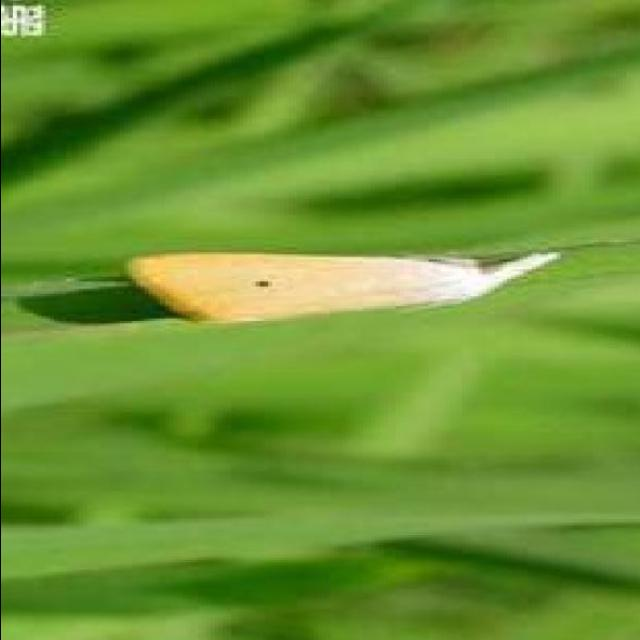stem borer: (128, 254, 557, 322)
